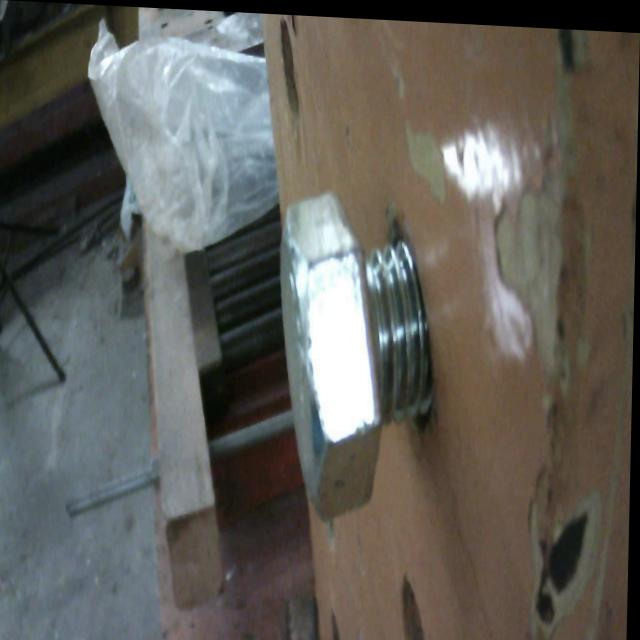Loose bolt: (279, 187, 441, 520)
Missing bolt: (399, 570, 436, 640), (278, 12, 302, 109), (334, 609, 348, 640)
Regular bolt: (273, 197, 439, 530)
